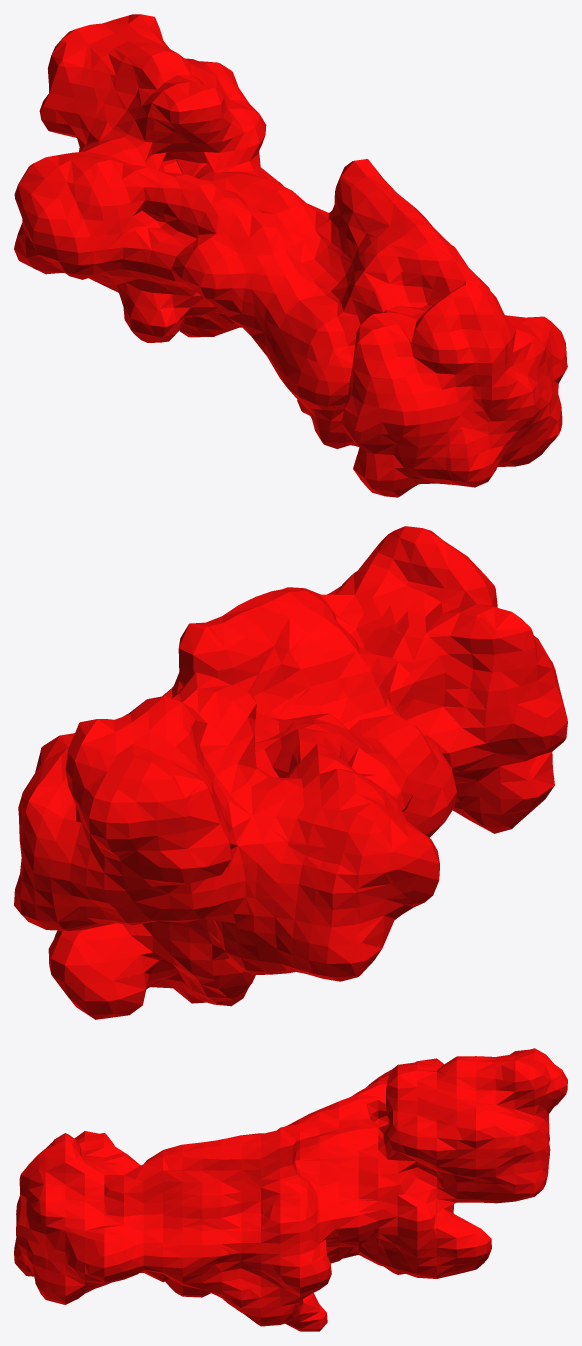
File: Sodium_potassium_transporting__coarse.dae
3 views of the same model, one above another, from view 1: azimuth 30°, elevation 25°; view 2: azimuth 150°, elevation 25°; view 3: azimuth 270°, elevation 25° (orthographic). The views are drawn at different scales.
Parts seen in each view (by area): view 1: Sodium_potassium_transporting_; view 2: Sodium_potassium_transporting_; view 3: Sodium_potassium_transporting_.
Boxes of the visible parts, box(x1,y1,x2,y2) form: Sodium_potassium_transporting_: box(14, 14, 567, 497); Sodium_potassium_transporting_: box(14, 526, 567, 1019); Sodium_potassium_transporting_: box(14, 1048, 567, 1331).
Size of the model in its own units: 94.76 by 82.16 by 164.
